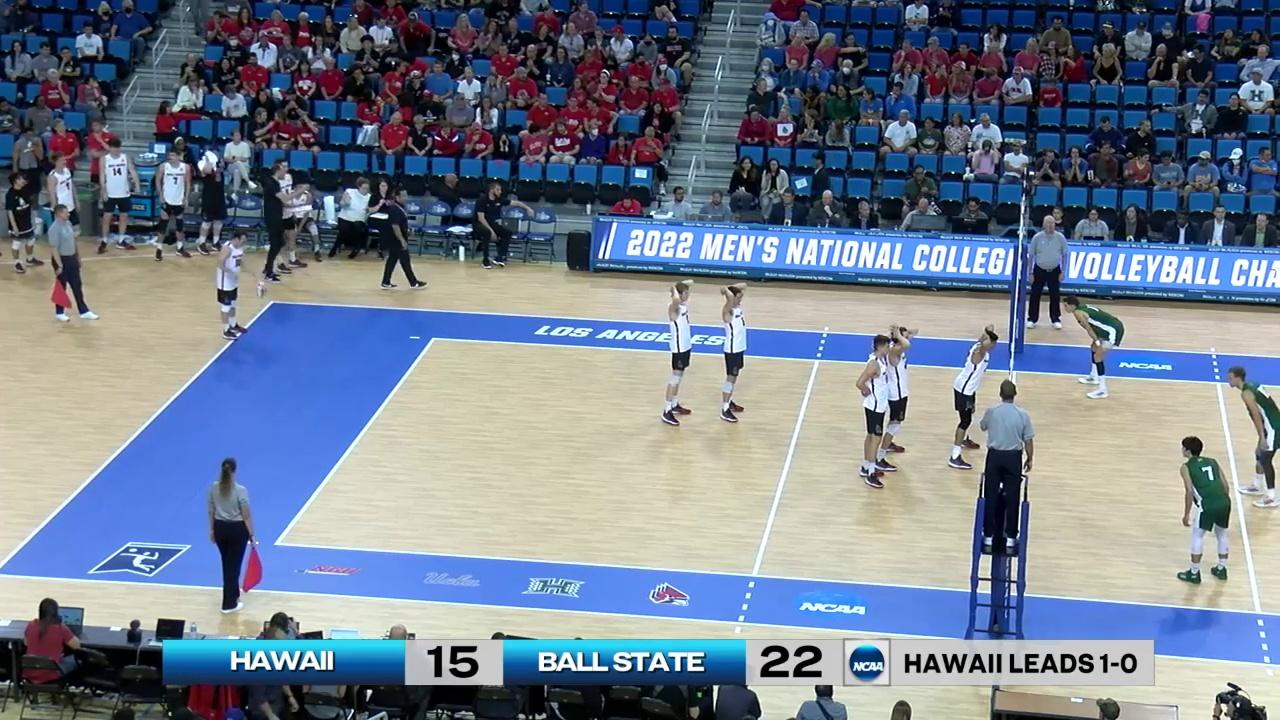player: (1173, 437, 1233, 587), (1226, 365, 1280, 508), (949, 326, 1000, 468), (857, 335, 900, 486), (1065, 297, 1125, 399), (875, 325, 915, 471), (661, 278, 697, 425), (715, 283, 752, 426), (216, 230, 249, 339)
refree: (207, 459, 264, 615), (980, 381, 1033, 547), (46, 204, 100, 322), (1025, 216, 1069, 329)
